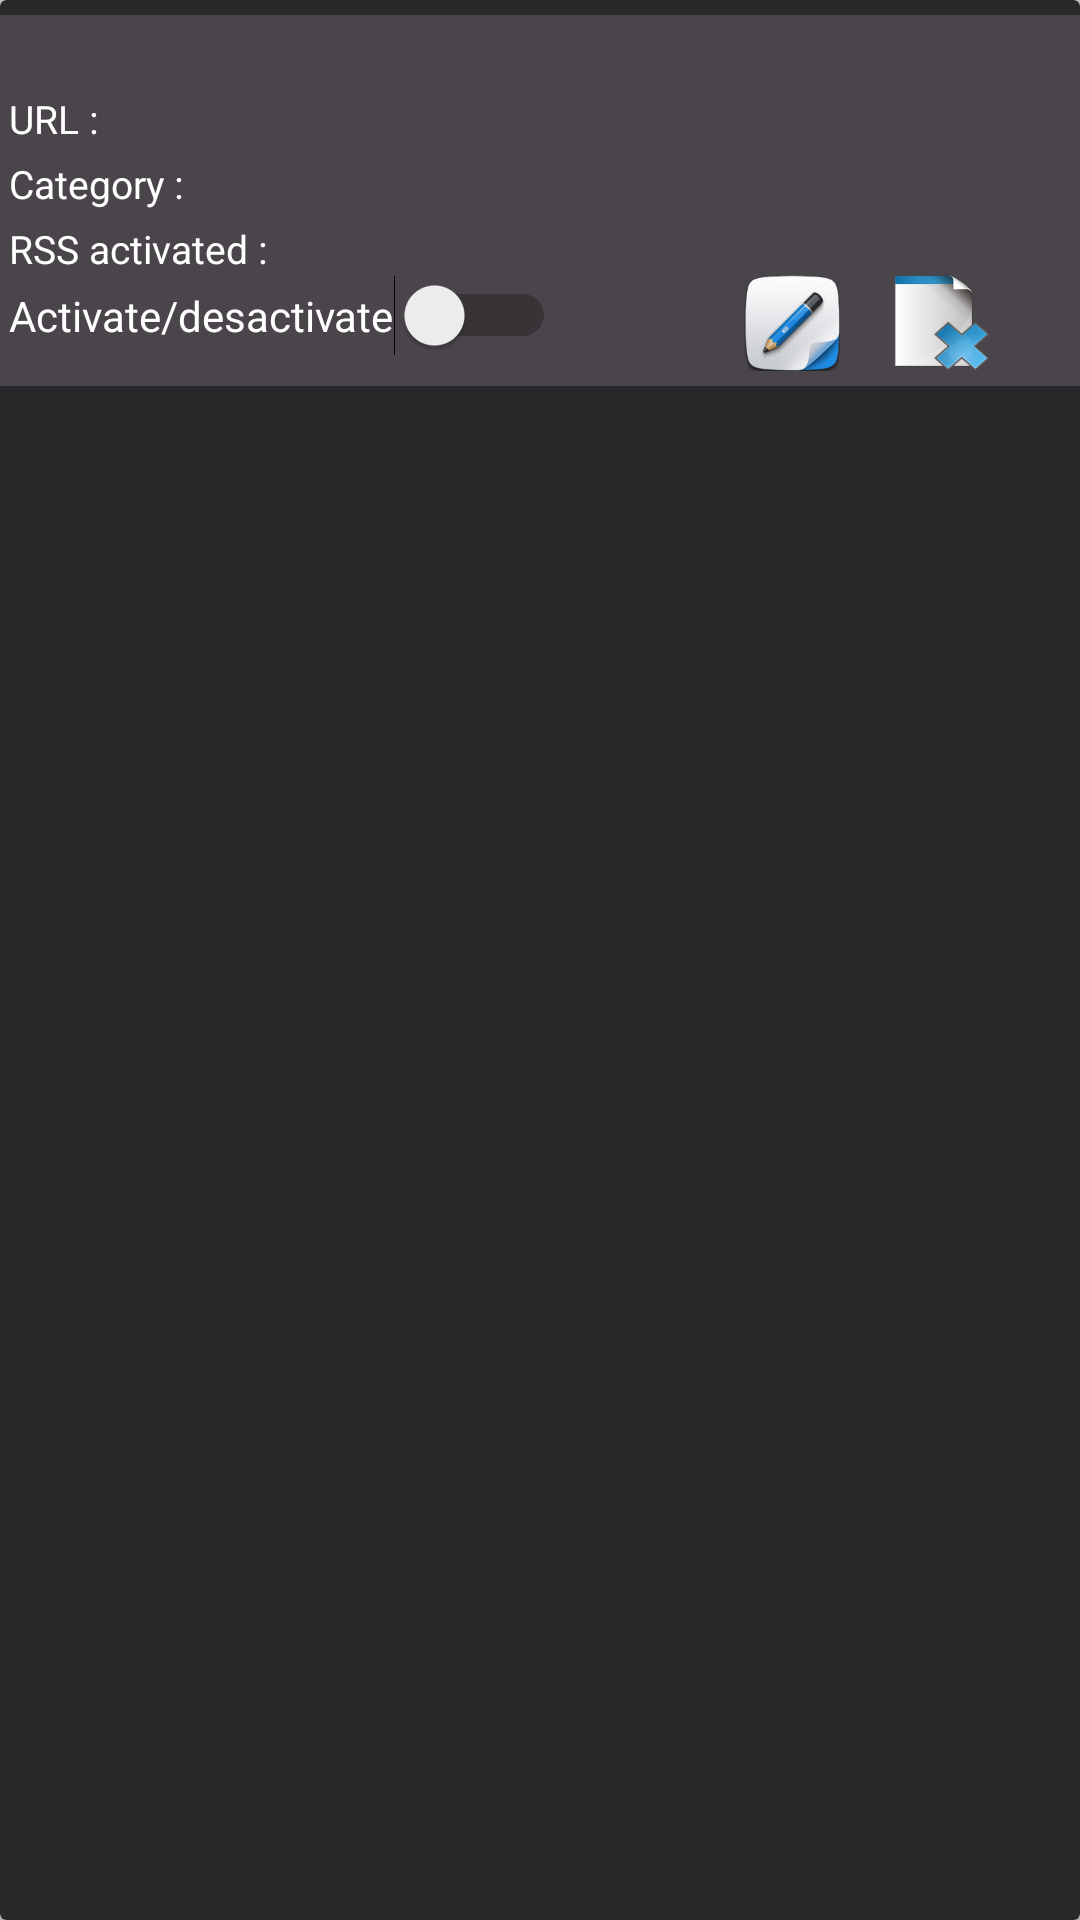

Point at icon controls on the screen. Image size 1080*1920, points as [x,y].
Delete supprimer: [941,323]
Modify: [792,323]
